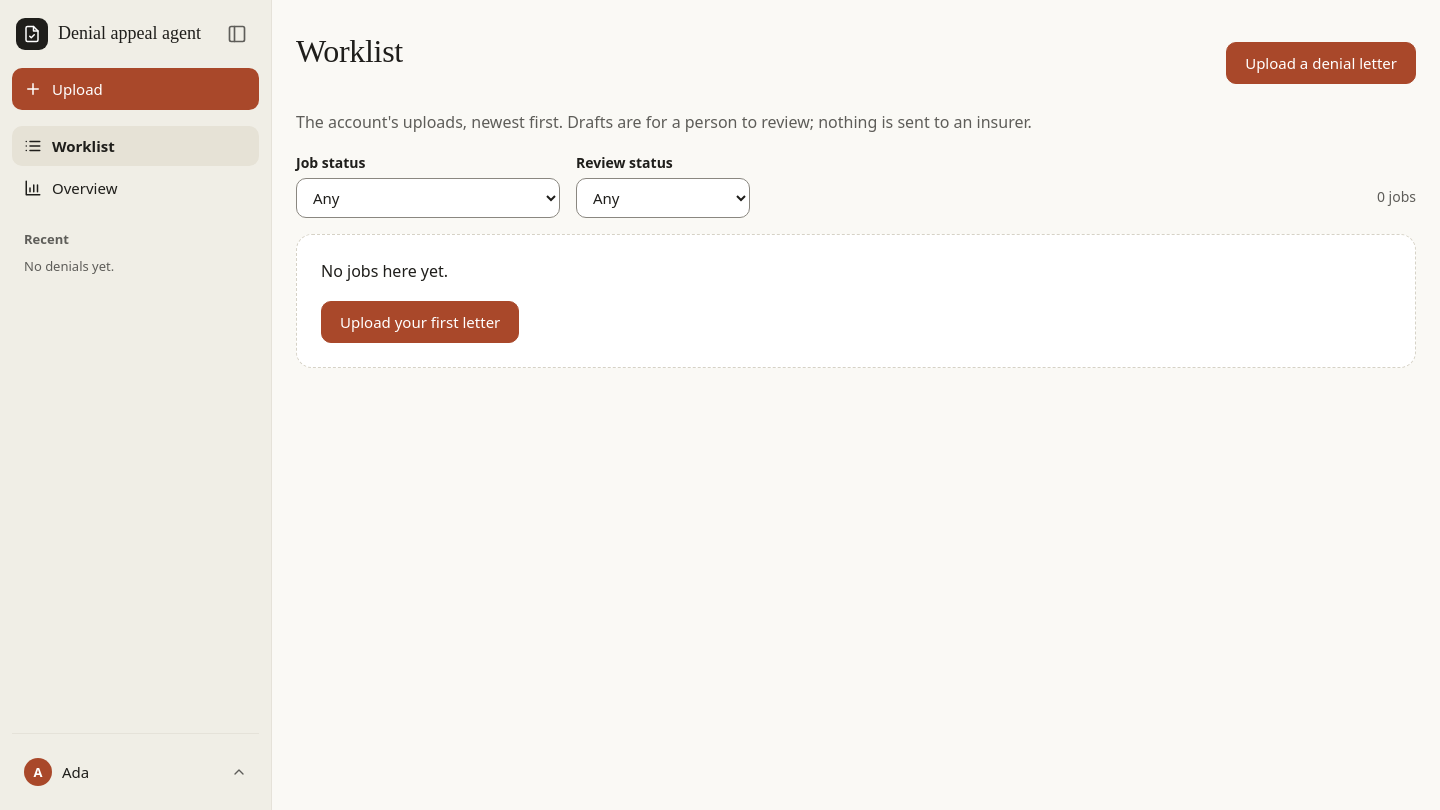
AppLayout › closes the menu with Escape and gives the focus back to its button
Click the button "A Ada" at (136, 772), box [16,750,255,794]
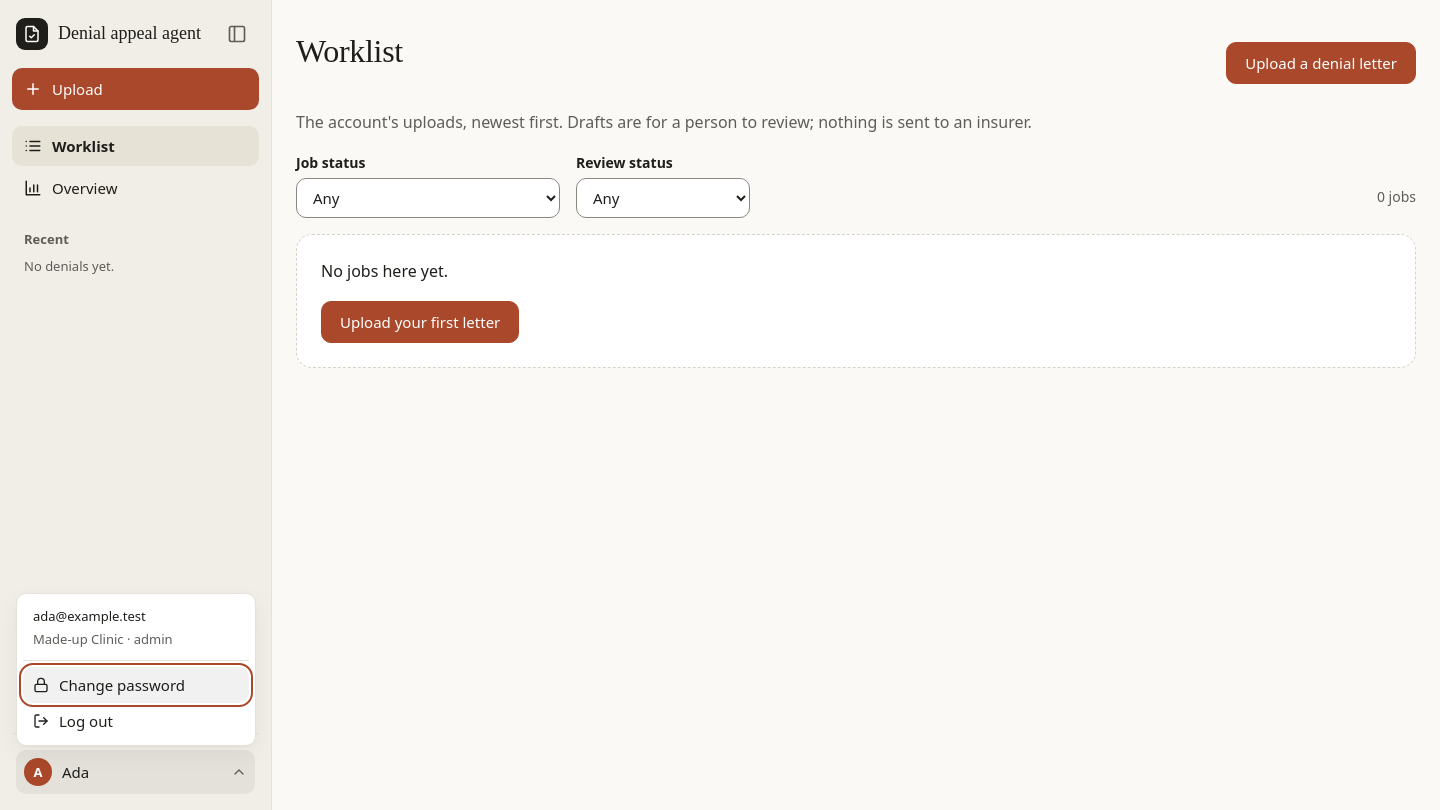
Press Escape
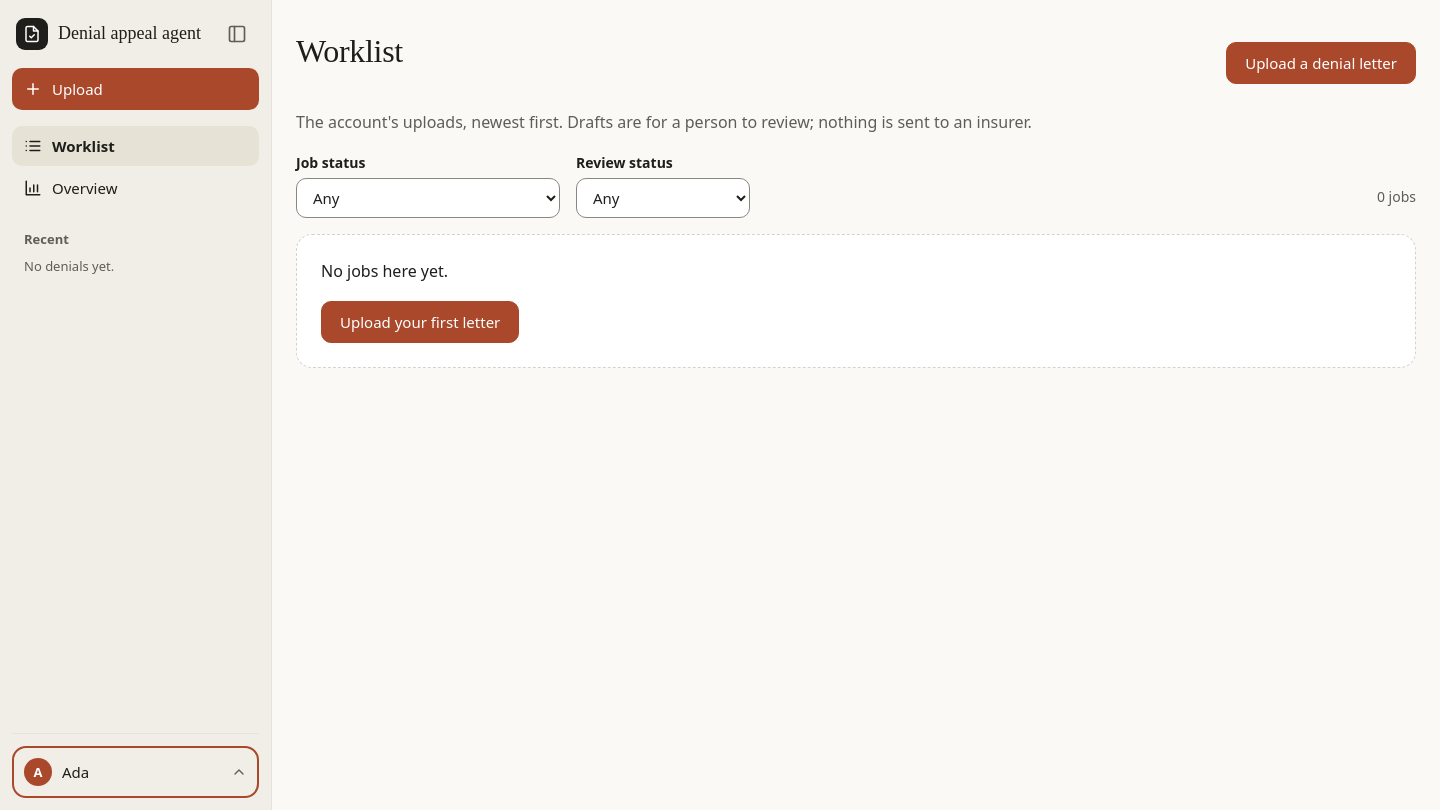
Check: the menu is gone
